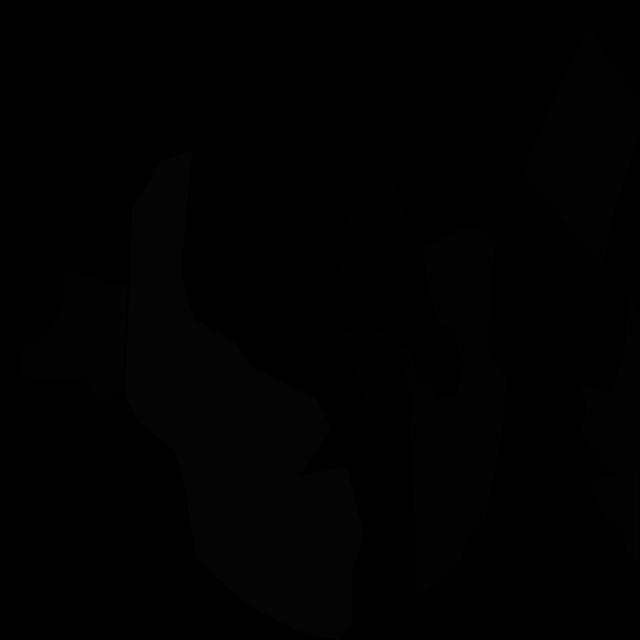cardboard: (404, 300, 508, 596), (523, 22, 640, 269), (19, 268, 128, 407), (579, 290, 640, 476), (423, 225, 497, 332), (590, 464, 639, 565)
rigid_plastic: (326, 168, 406, 323), (342, 327, 412, 433)
soft_plastic: (125, 150, 364, 640)
